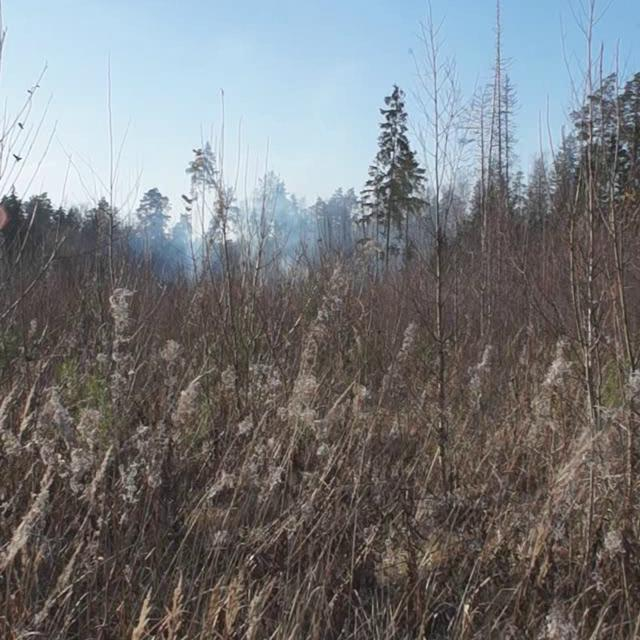Smoke: (125, 177, 463, 300)
